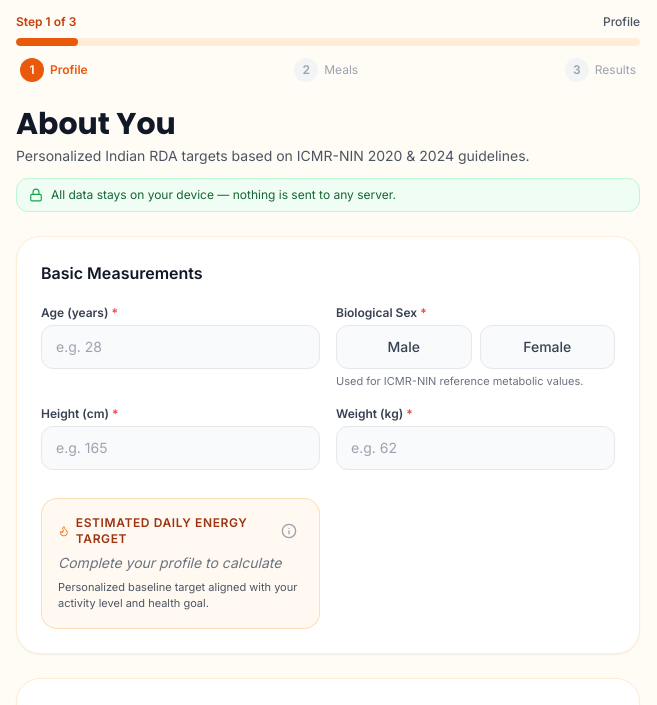
Phase 2 UI & Pages Integration Tests › Profile Page › calculates BMI dynamically and displays Asian Indian category
Type "170" into the number field labelled "Height (cm) *". click: x=180, y=448
box: top-left (41, 426), bottom-right (320, 470)
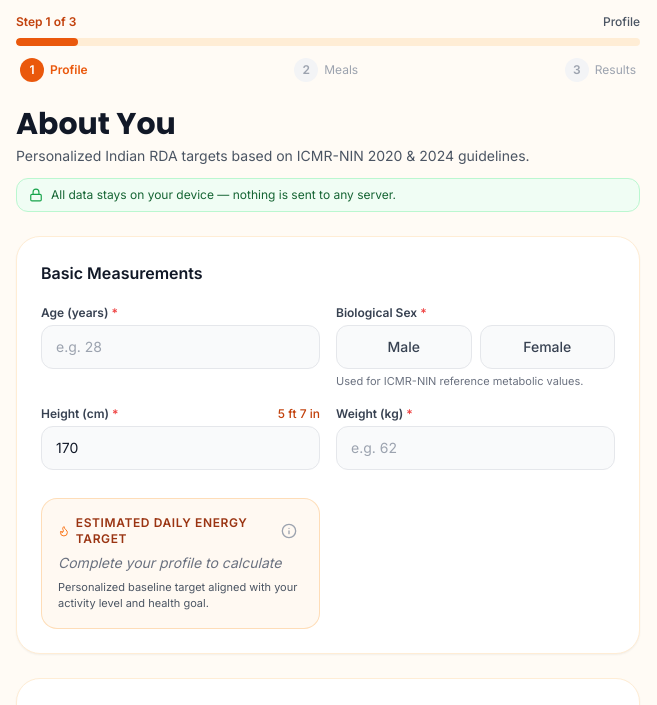
Type "70" into the number field labelled "Weight (kg) *". click: x=476, y=448
box: top-left (336, 426), bottom-right (615, 470)
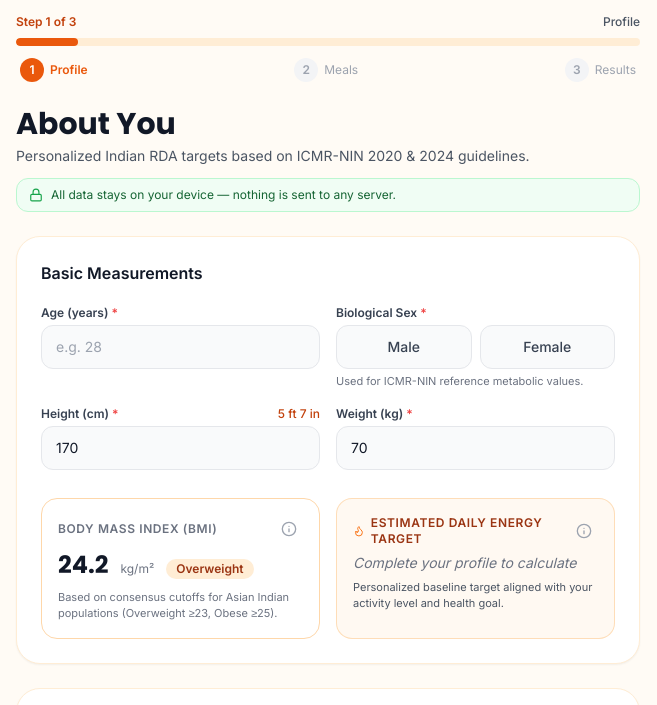
expect the text "24.2" is shown: met, box top-left (58, 548), bottom-right (108, 580)
expect the text "Overweight" is shown: met, box top-left (166, 558), bottom-right (254, 578)
